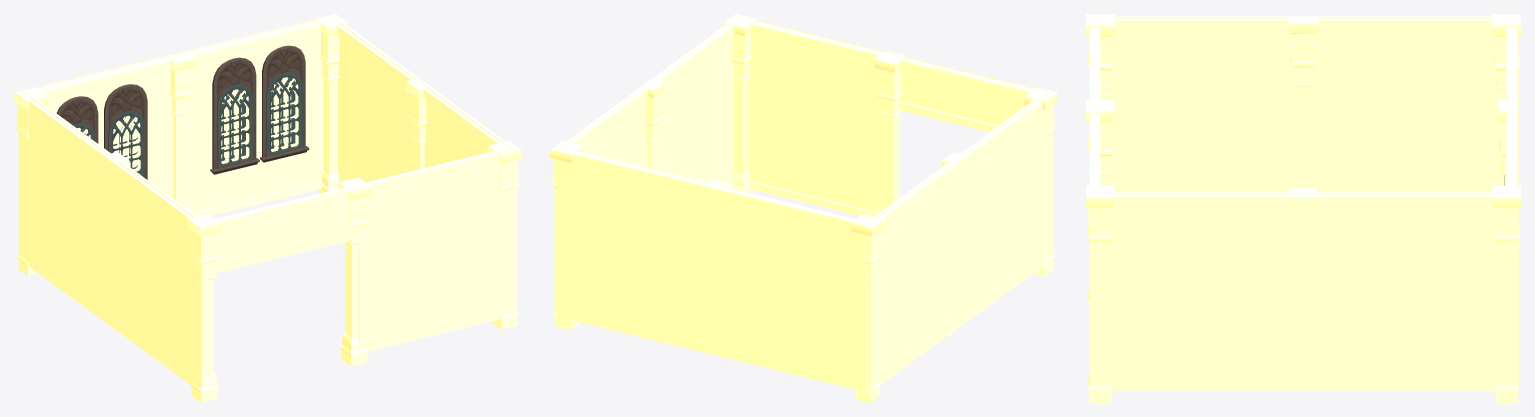
The model's file is Homeworld_Interior_Md_Room_N_Wall_01_Vo.fbx.
3 renders of one model, left to right at view 1: azimuth 30°, elevation 25°; view 2: azimuth 150°, elevation 25°; view 3: azimuth 270°, elevation 25°, orthographic. The views are drawn at different scales.
Parts seen in each view (by area): view 1: Homeworld_Interior_Md_Room_Wall_01_Vo (×5), Homeworld_Interior_Md_Room_Wall_02_Vo (×2), Homeworld_Interior_Md_Room_Pillar_01_Vo (×5), Homeworld_Interior_Md_Room_Wall_08_Vo, Homeworld_Interior_Md_Room_N_Filling_01_Vo, Homeworld_Interior_Md_Room_Pillar_02_Vo (×2); view 2: Homeworld_Interior_Md_Room_Wall_01_Vo (×5), Homeworld_Interior_Md_Room_N_Filling_01_Vo, Homeworld_Interior_Md_Room_Pillar_01_Vo (×5), Homeworld_Interior_Md_Room_Wall_08_Vo, Homeworld_Interior_Md_Room_Pillar_02_Vo, Homeworld_Interior_Md_Room_Wall_02_Vo (×2); view 3: Homeworld_Interior_Md_Room_Wall_01_Vo (×5), Homeworld_Interior_Md_Room_Pillar_01_Vo (×5), Homeworld_Interior_Md_Room_Pillar_02_Vo (×2), Homeworld_Interior_Md_Room_N_Filling_01_Vo, Homeworld_Interior_Md_Room_Wall_02_Vo (×2), Homeworld_Interior_Md_Room_Wall_08_Vo.
Part boxes in pixels (left/top/right/bottom): Homeworld_Interior_Md_Room_Wall_01_Vo (×5): left=18, top=24, right=517, bottom=388; Homeworld_Interior_Md_Room_Wall_02_Vo (×2): left=38, top=21, right=323, bottom=216; Homeworld_Interior_Md_Room_Pillar_01_Vo (×5): left=14, top=14, right=521, bottom=402; Homeworld_Interior_Md_Room_Wall_08_Vo: left=201, top=188, right=359, bottom=276; Homeworld_Interior_Md_Room_N_Filling_01_Vo: left=22, top=16, right=512, bottom=375; Homeworld_Interior_Md_Room_Pillar_02_Vo (×2): left=168, top=53, right=428, bottom=211; Homeworld_Interior_Md_Room_Wall_01_Vo (×5): left=554, top=21, right=1053, bottom=388; Homeworld_Interior_Md_Room_N_Filling_01_Vo: left=558, top=16, right=1048, bottom=391; Homeworld_Interior_Md_Room_Pillar_01_Vo (×5): left=550, top=14, right=1057, bottom=402; Homeworld_Interior_Md_Room_Wall_08_Vo: left=898, top=58, right=1033, bottom=131; Homeworld_Interior_Md_Room_Pillar_02_Vo: left=643, top=79, right=665, bottom=170; Homeworld_Interior_Md_Room_Wall_02_Vo (×2): left=574, top=151, right=855, bottom=221; Homeworld_Interior_Md_Room_Wall_01_Vo (×5): left=1089, top=16, right=1517, bottom=390; Homeworld_Interior_Md_Room_Pillar_01_Vo (×5): left=1086, top=14, right=1520, bottom=402; Homeworld_Interior_Md_Room_Pillar_02_Vo (×2): left=1289, top=17, right=1512, bottom=188; Homeworld_Interior_Md_Room_N_Filling_01_Vo: left=1090, top=17, right=1518, bottom=387; Homeworld_Interior_Md_Room_Wall_02_Vo (×2): left=1504, top=27, right=1517, bottom=185; Homeworld_Interior_Md_Room_Wall_08_Vo: left=1089, top=27, right=1100, bottom=99.
Size of what is drawn, in the model's own units: 10.17 by 5.35 by 10.17.
